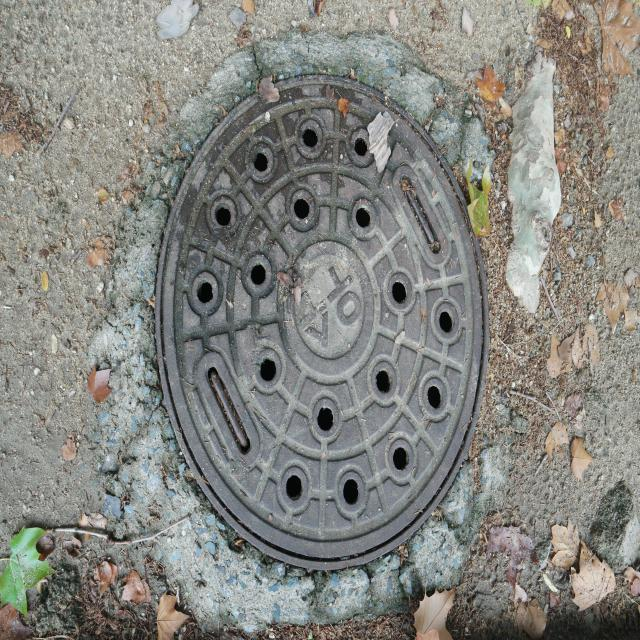manhole: (156, 75, 486, 570)
